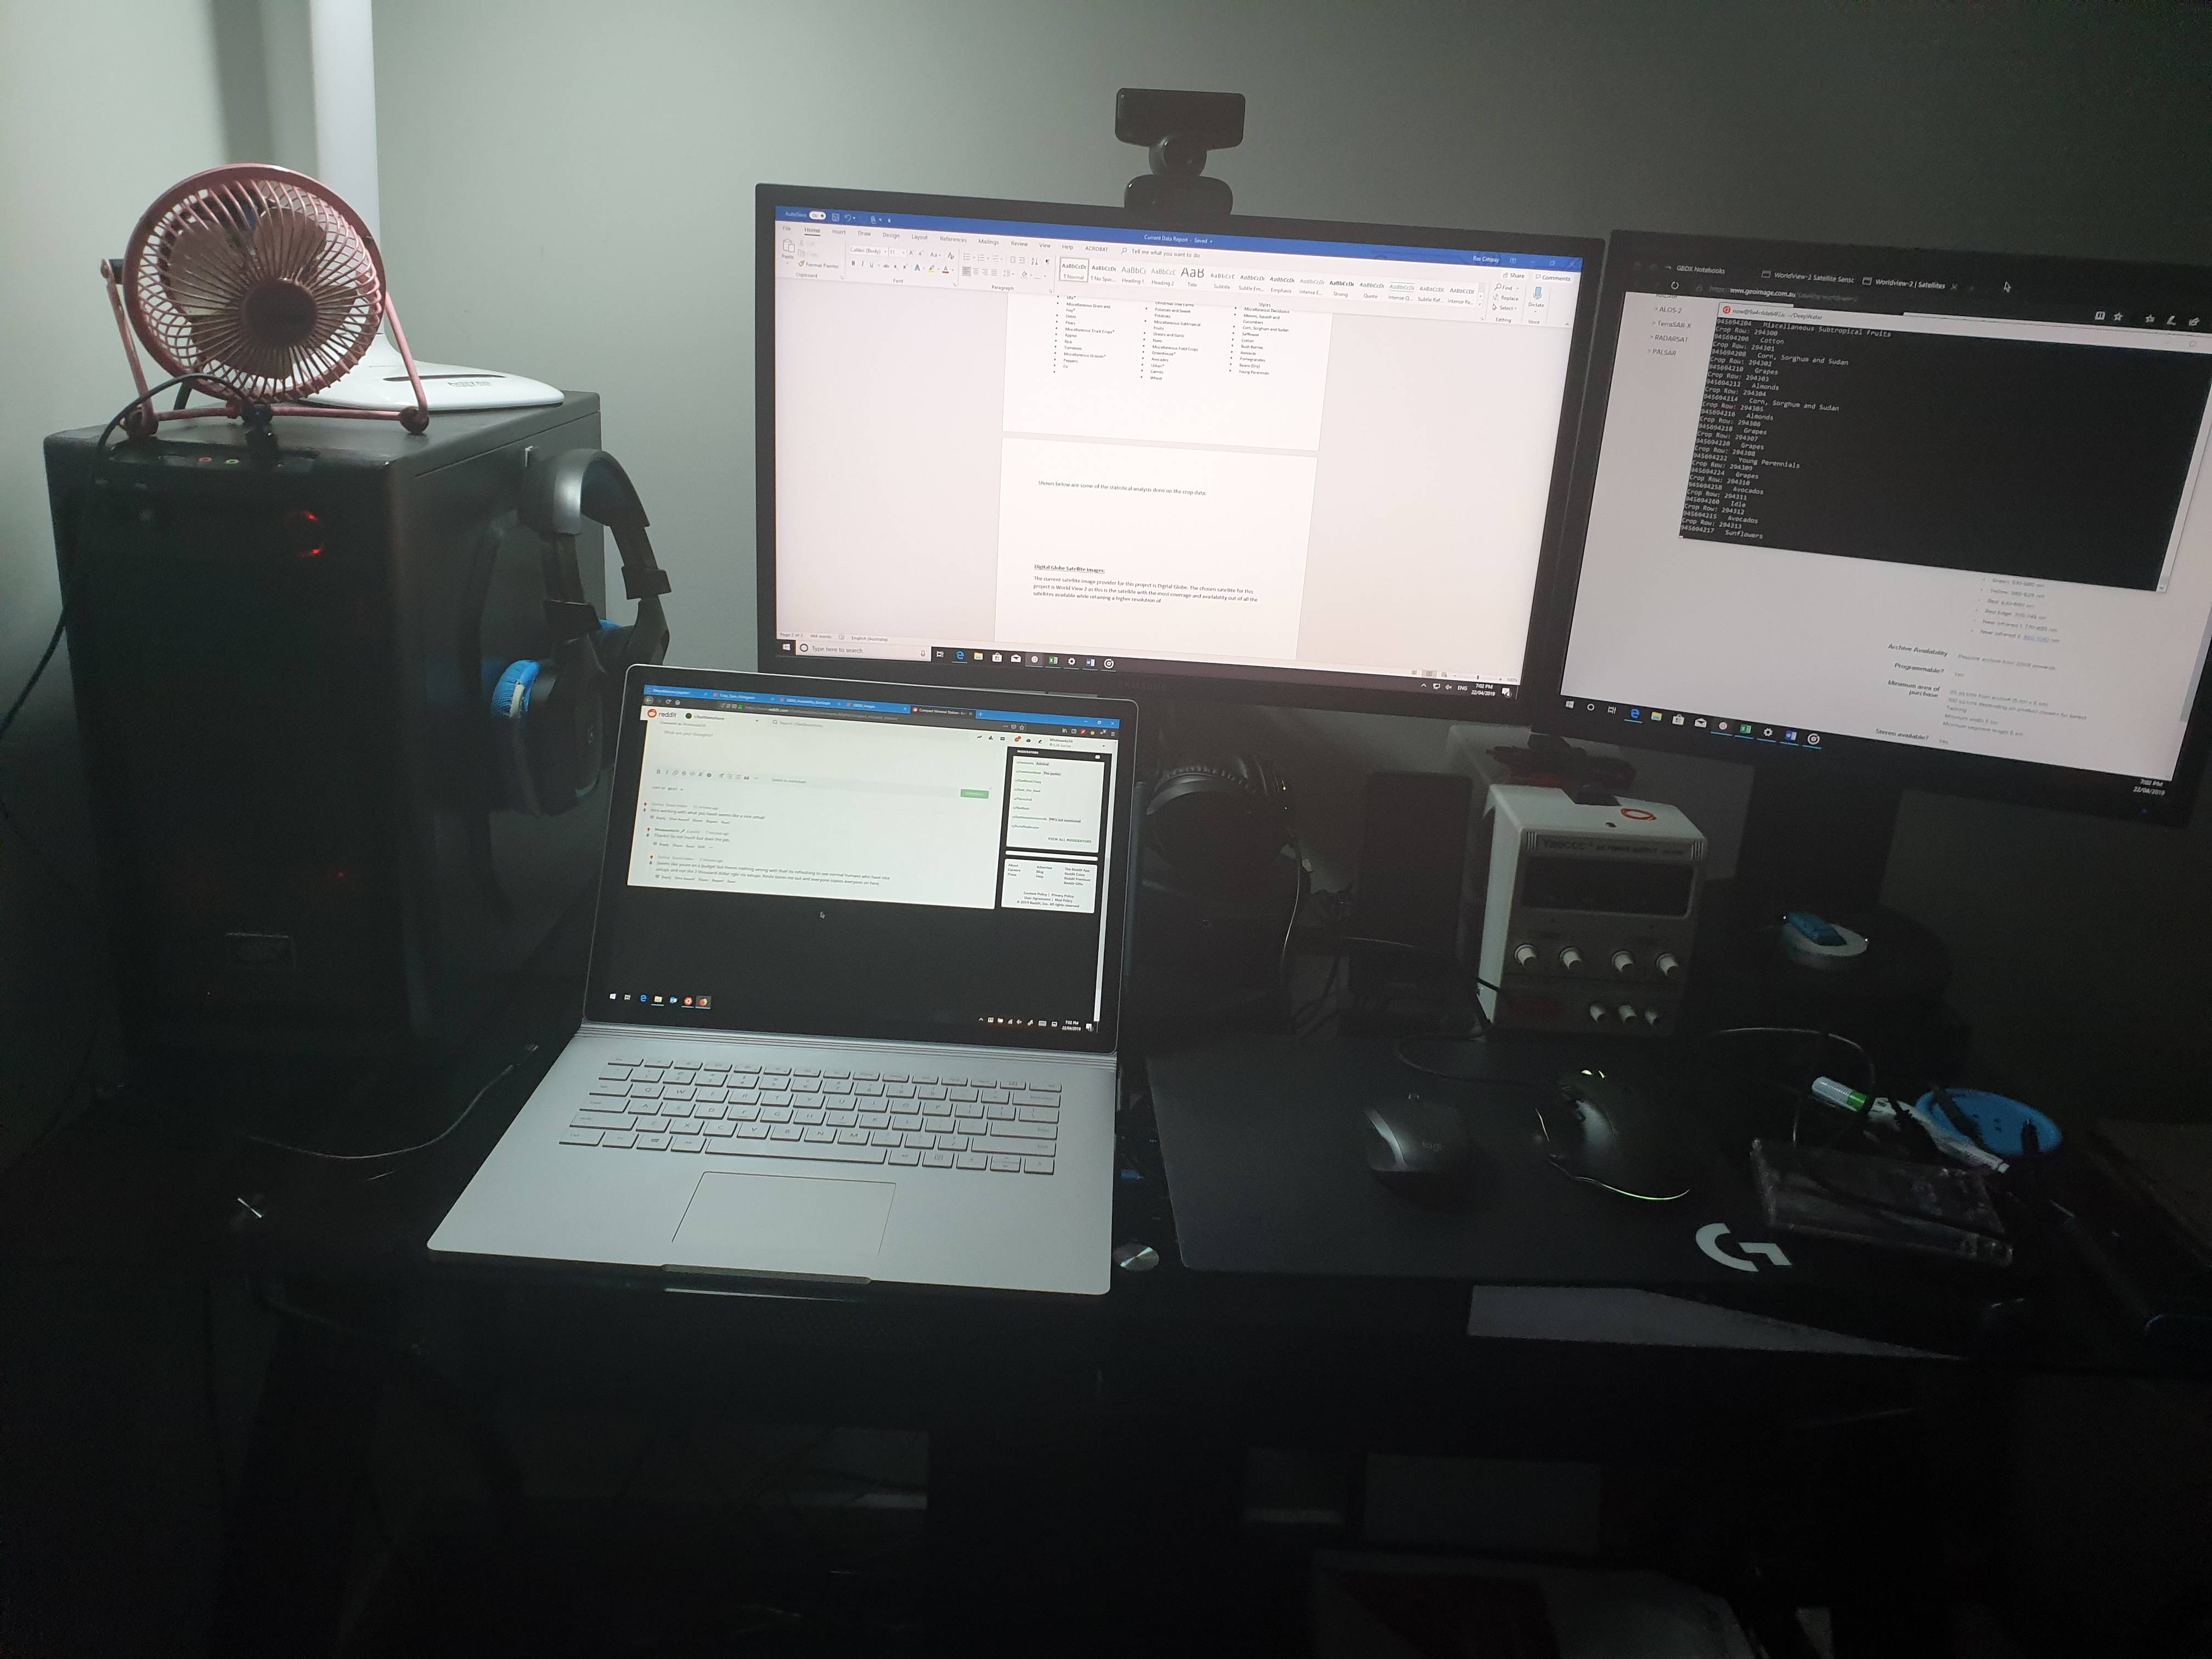Cellphone: (1360, 765, 1468, 1002)
Cellphone Charger (Generic): (1339, 978, 1477, 1030)
Desk (Generic): (3, 1042, 2202, 1659)
Desktop (Windows): (42, 375, 603, 1072)
External Webcam: (1101, 78, 1254, 235)
Fan (Desk): (85, 162, 448, 450)
Headphones: (455, 423, 693, 802), (1122, 741, 1305, 868)
Laptop (Windows): (416, 659, 1141, 1312)
Monitor (Landscape): (758, 178, 1594, 741), (1538, 220, 2212, 845)
Monitor (Laptop): (575, 655, 1130, 1061)
Mouse (Gaming): (1515, 1047, 1716, 1223)
Mouse (Generic): (1325, 1061, 1501, 1201)
Mousepad (Gaming): (1148, 1037, 1919, 1276)
